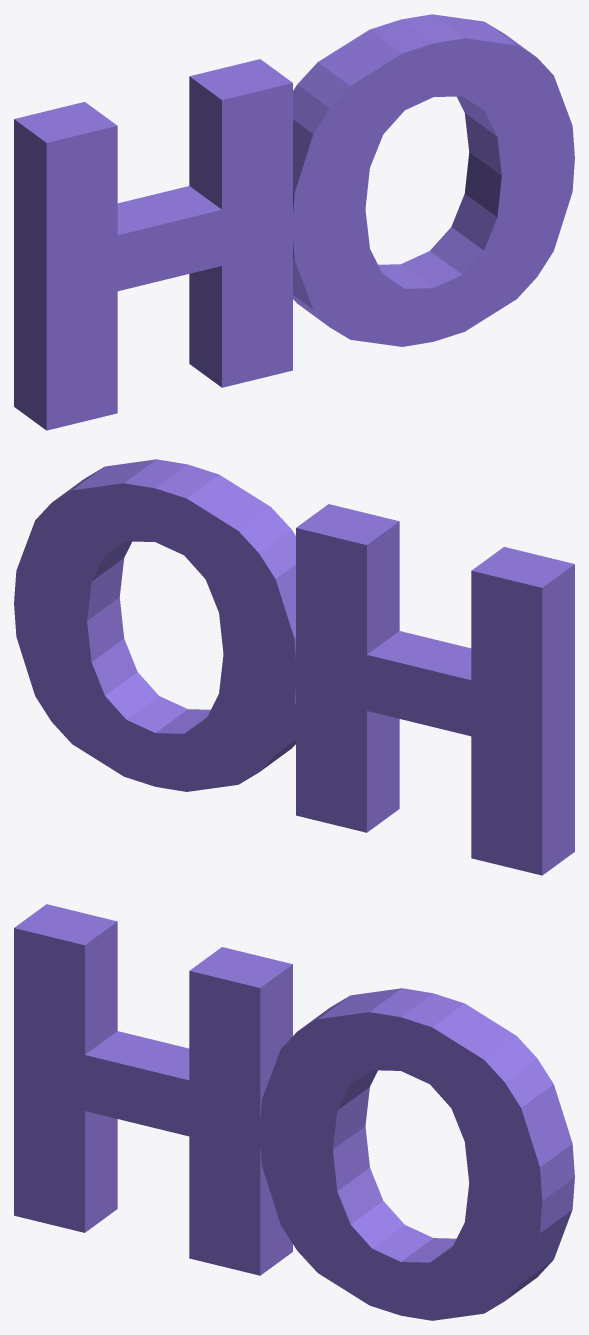
Rendered from suku_besar_ho.glb.
3 renders of one model, top to bottom at view 1: azimuth 30°, elevation 25°; view 2: azimuth 150°, elevation 25°; view 3: azimuth 330°, elevation 25°, orthographic.
Visible parts, largest first — view 1: geometry_0; view 2: geometry_0; view 3: geometry_0.
Part boxes in pixels (left/top/right/bottom): geometry_0: left=14, top=14, right=574, bottom=430; geometry_0: left=14, top=459, right=574, bottom=875; geometry_0: left=14, top=904, right=574, bottom=1320.
Bounding box in the file's own units: 14.01 × 7.56 × 1.5.
